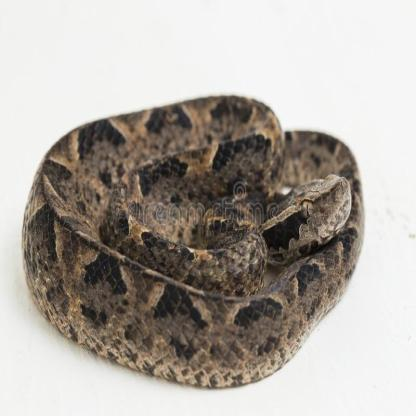snakes: (24, 82, 369, 402)
